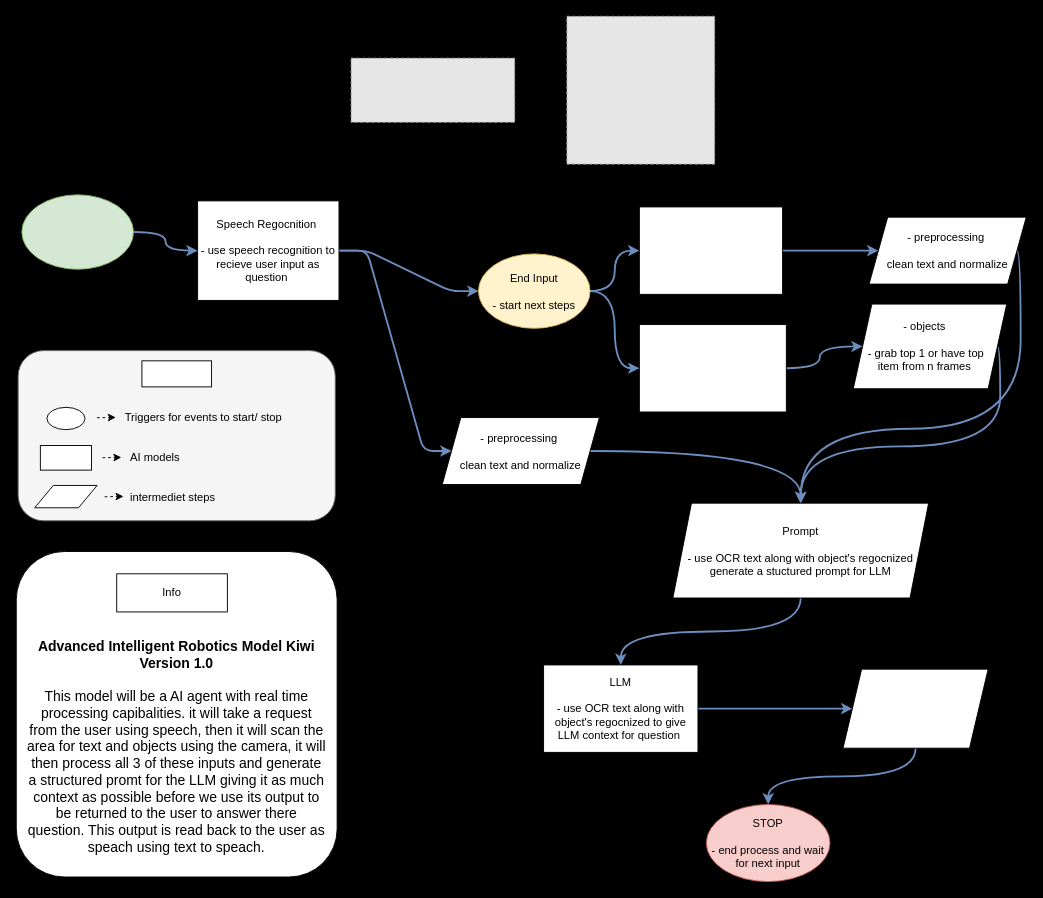
The diagram is 1043 pixels wide and 898 high, and some of its shapes have lost their labels. Grey dashed boxes stand in for pictures. The shapes that lost their labels are listed below. From the top down, each one's centre as x and y in pixels, then its label:
point (77, 231): Start Input - trigger start
point (710, 250): OCR - Read Text on screen via cam
point (176, 373): Legends
point (712, 368): Object Regocnition - use CV to get on screen objects
point (915, 708): - Text To speech - use the output text to convert it to speech
